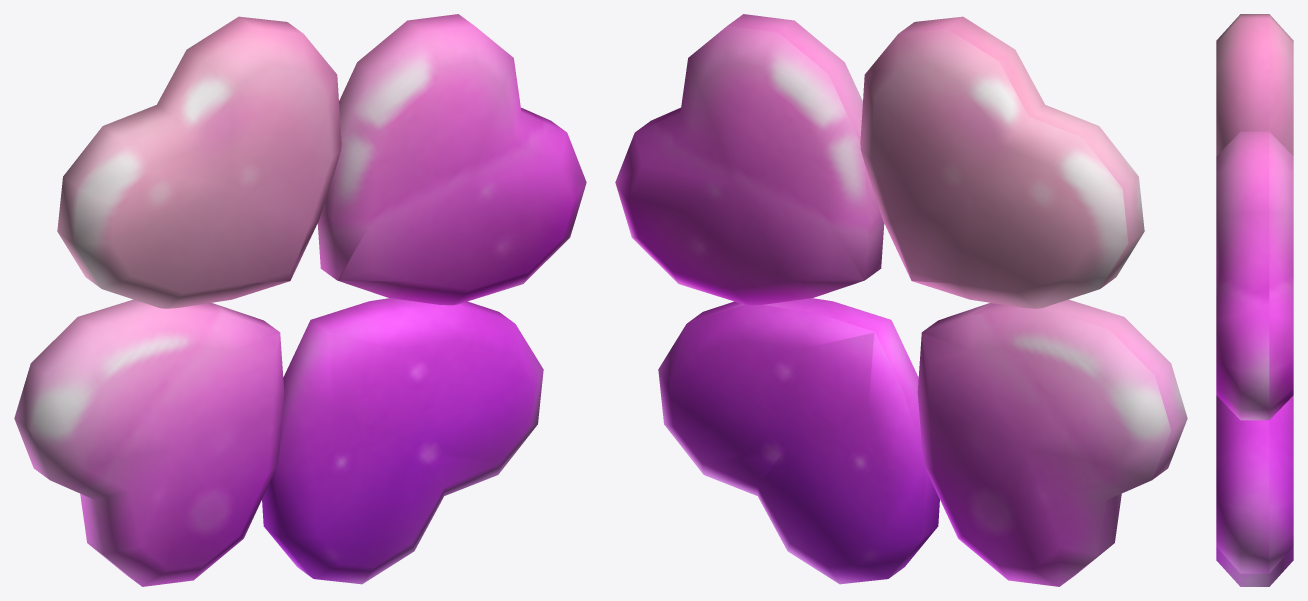
File: scenes_common_tools04d.FBX
3 renders of one model, left to right at view 1: azimuth 30°, elevation 25°; view 2: azimuth 150°, elevation 25°; view 3: azimuth 270°, elevation 25°, orthographic. The views are drawn at different scales.
Visible parts, largest first — view 1: scenes_common_tools04d; view 2: scenes_common_tools04d; view 3: scenes_common_tools04d.
Boxes of the visible parts, x1,y1,x2,y2 form: scenes_common_tools04d: (14, 14, 586, 586); scenes_common_tools04d: (615, 14, 1187, 586); scenes_common_tools04d: (1216, 14, 1293, 586).
Bounding box in the file's own units: 76.85 × 76.85 × 10.38.
